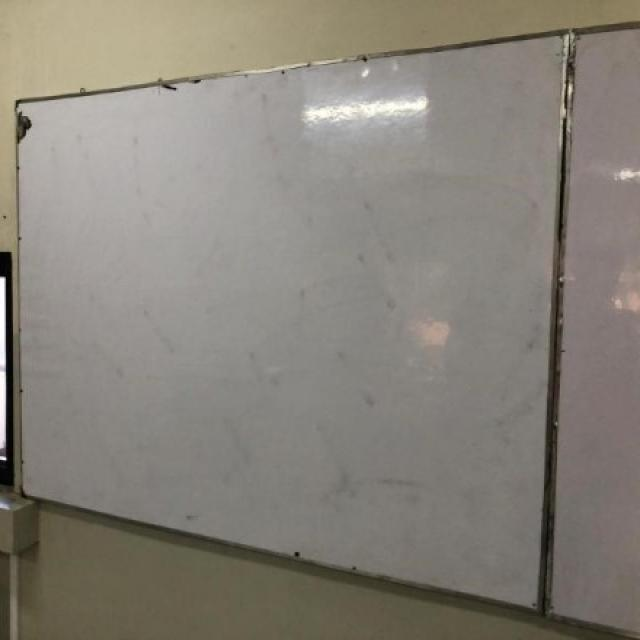White-board: (19, 27, 640, 640)
